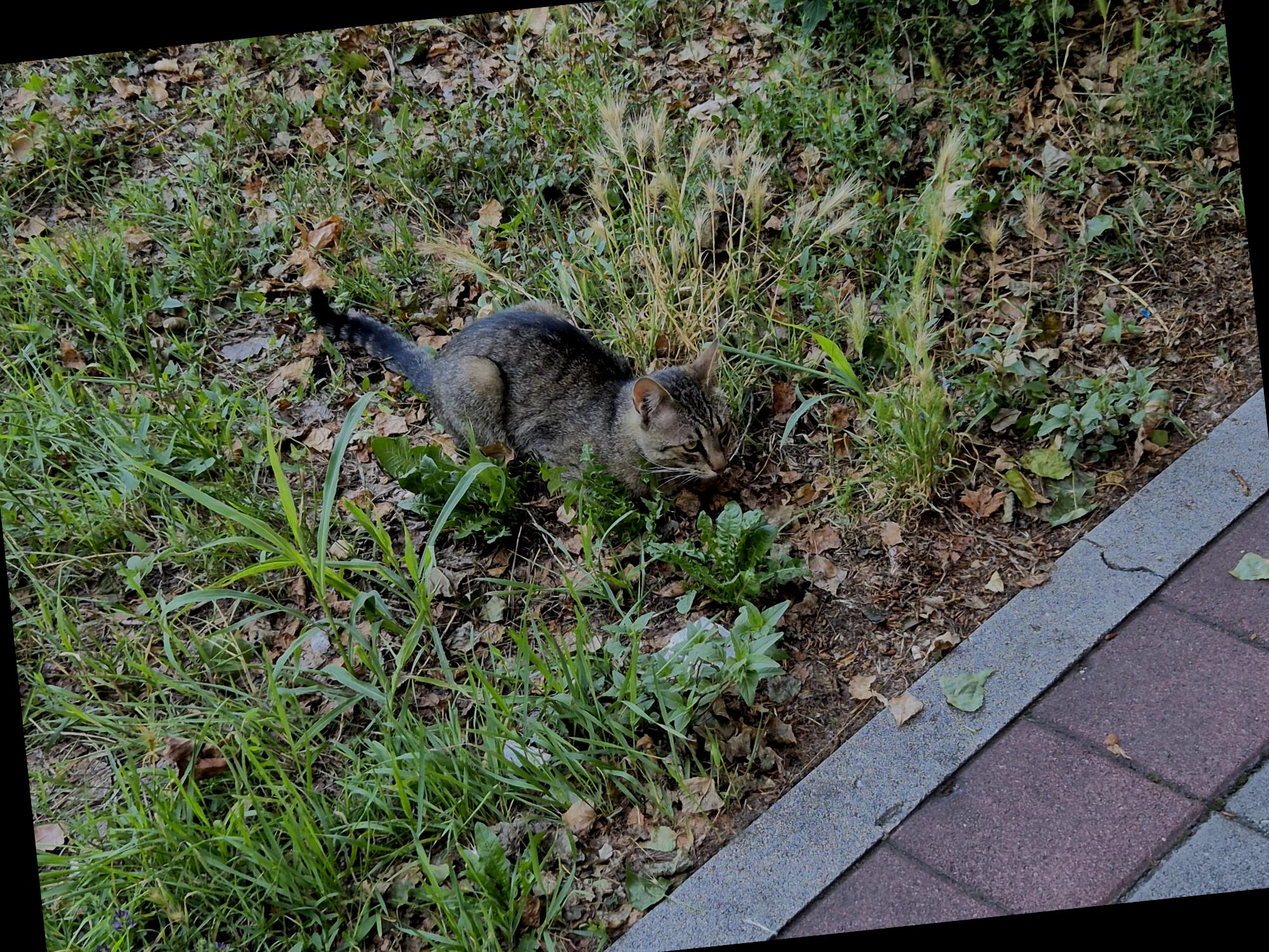macka: (304, 243, 742, 540)
